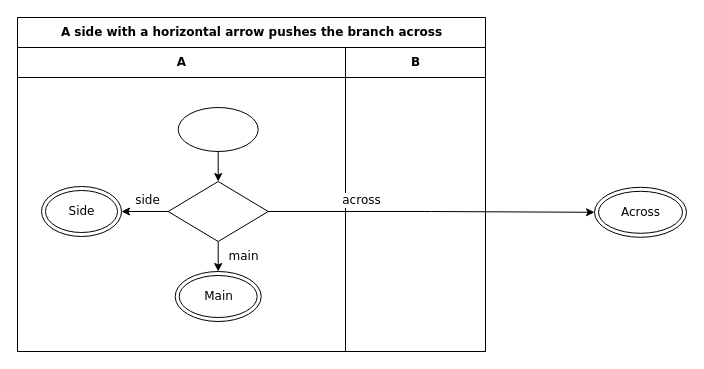
The diagram is 704 pixels wide and 369 high, and some of its shapes have lost their labels. Here are the shapes that lost their labels. From the top down, the centre of each, then its label:
At point (217, 129): "In".
At point (217, 211): "Turn?".
